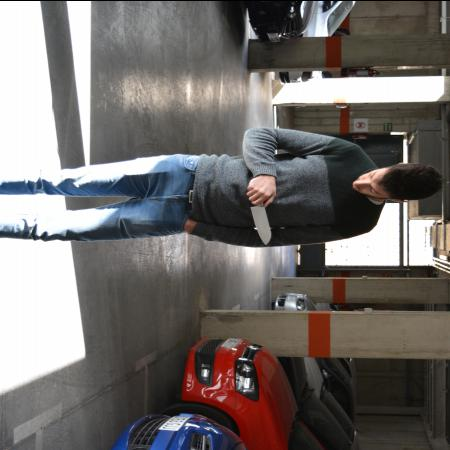long weapon: (248, 198, 277, 246)
